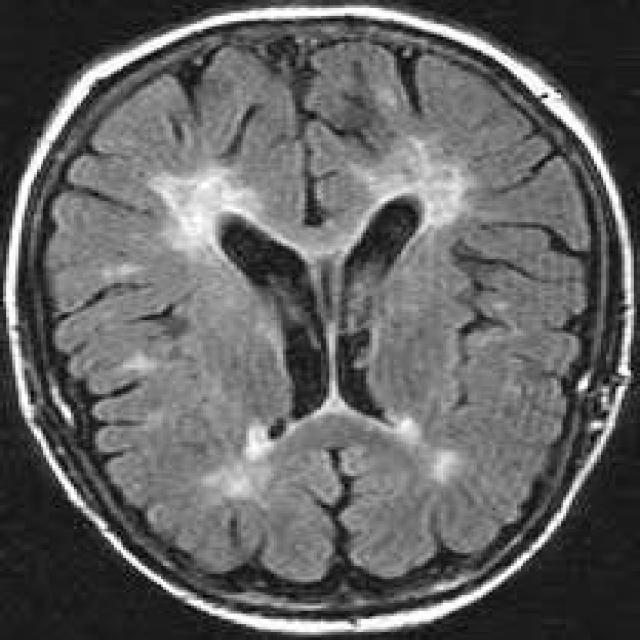no-tumor: (127, 159, 508, 517)
